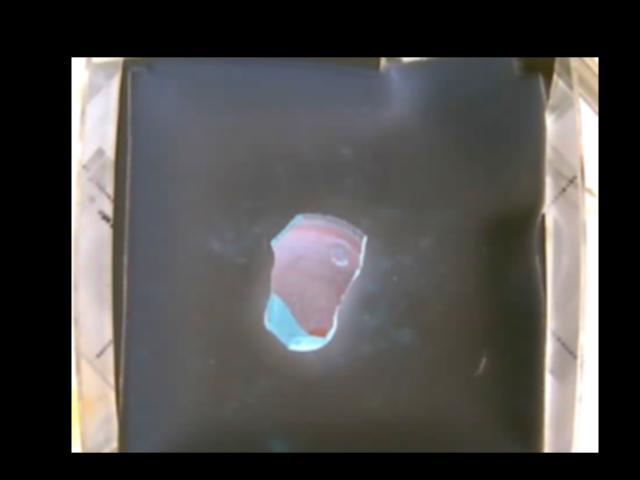China: (265, 212, 371, 350)
